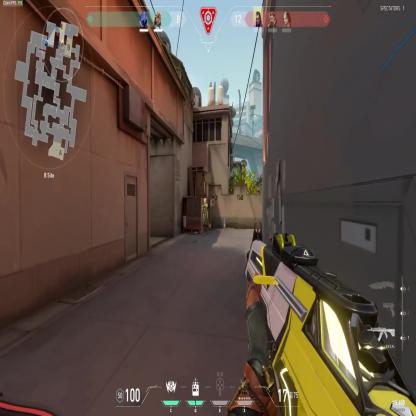enemy: (201, 195, 210, 234)
enemy_head: (204, 197, 206, 204)
